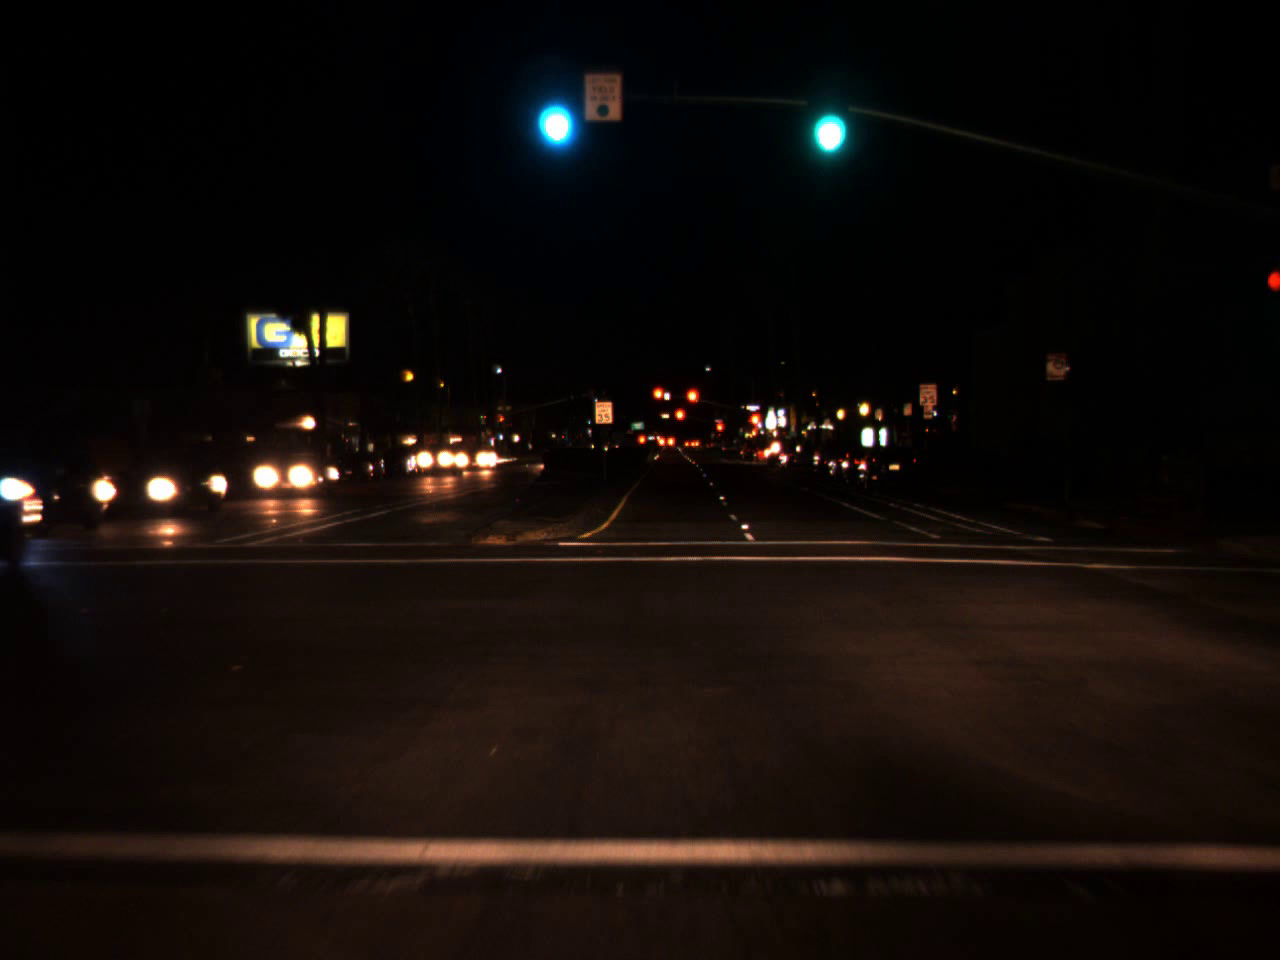go: (804, 76, 849, 163), (535, 75, 574, 150)
stop: (651, 385, 666, 412), (672, 407, 687, 434), (685, 388, 698, 417), (715, 419, 724, 441), (750, 412, 756, 436), (499, 414, 505, 430)
